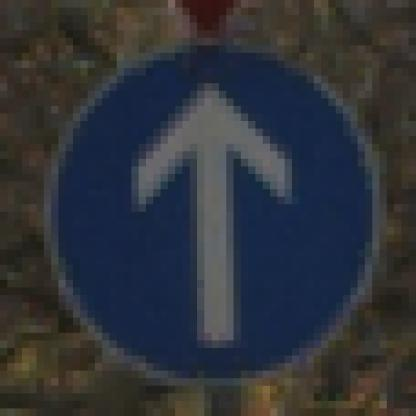AheadOnly: (45, 39, 380, 379)
